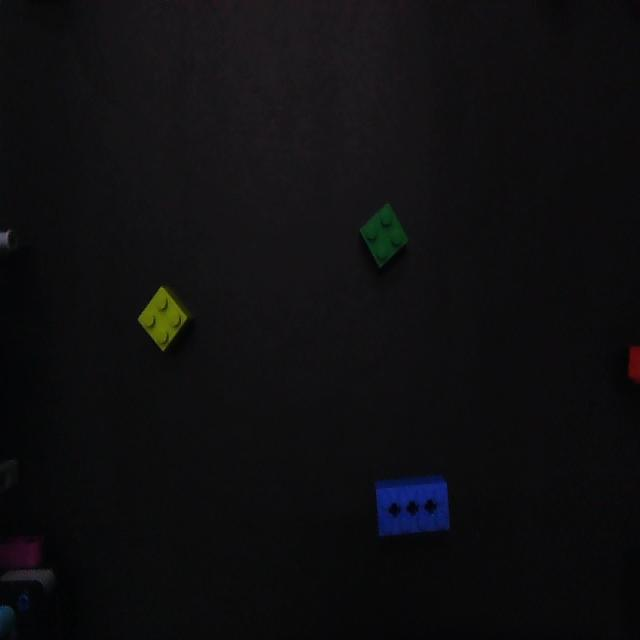lego_brick: (376, 476, 449, 536), (138, 285, 191, 351), (361, 203, 407, 267), (628, 345, 639, 383)
